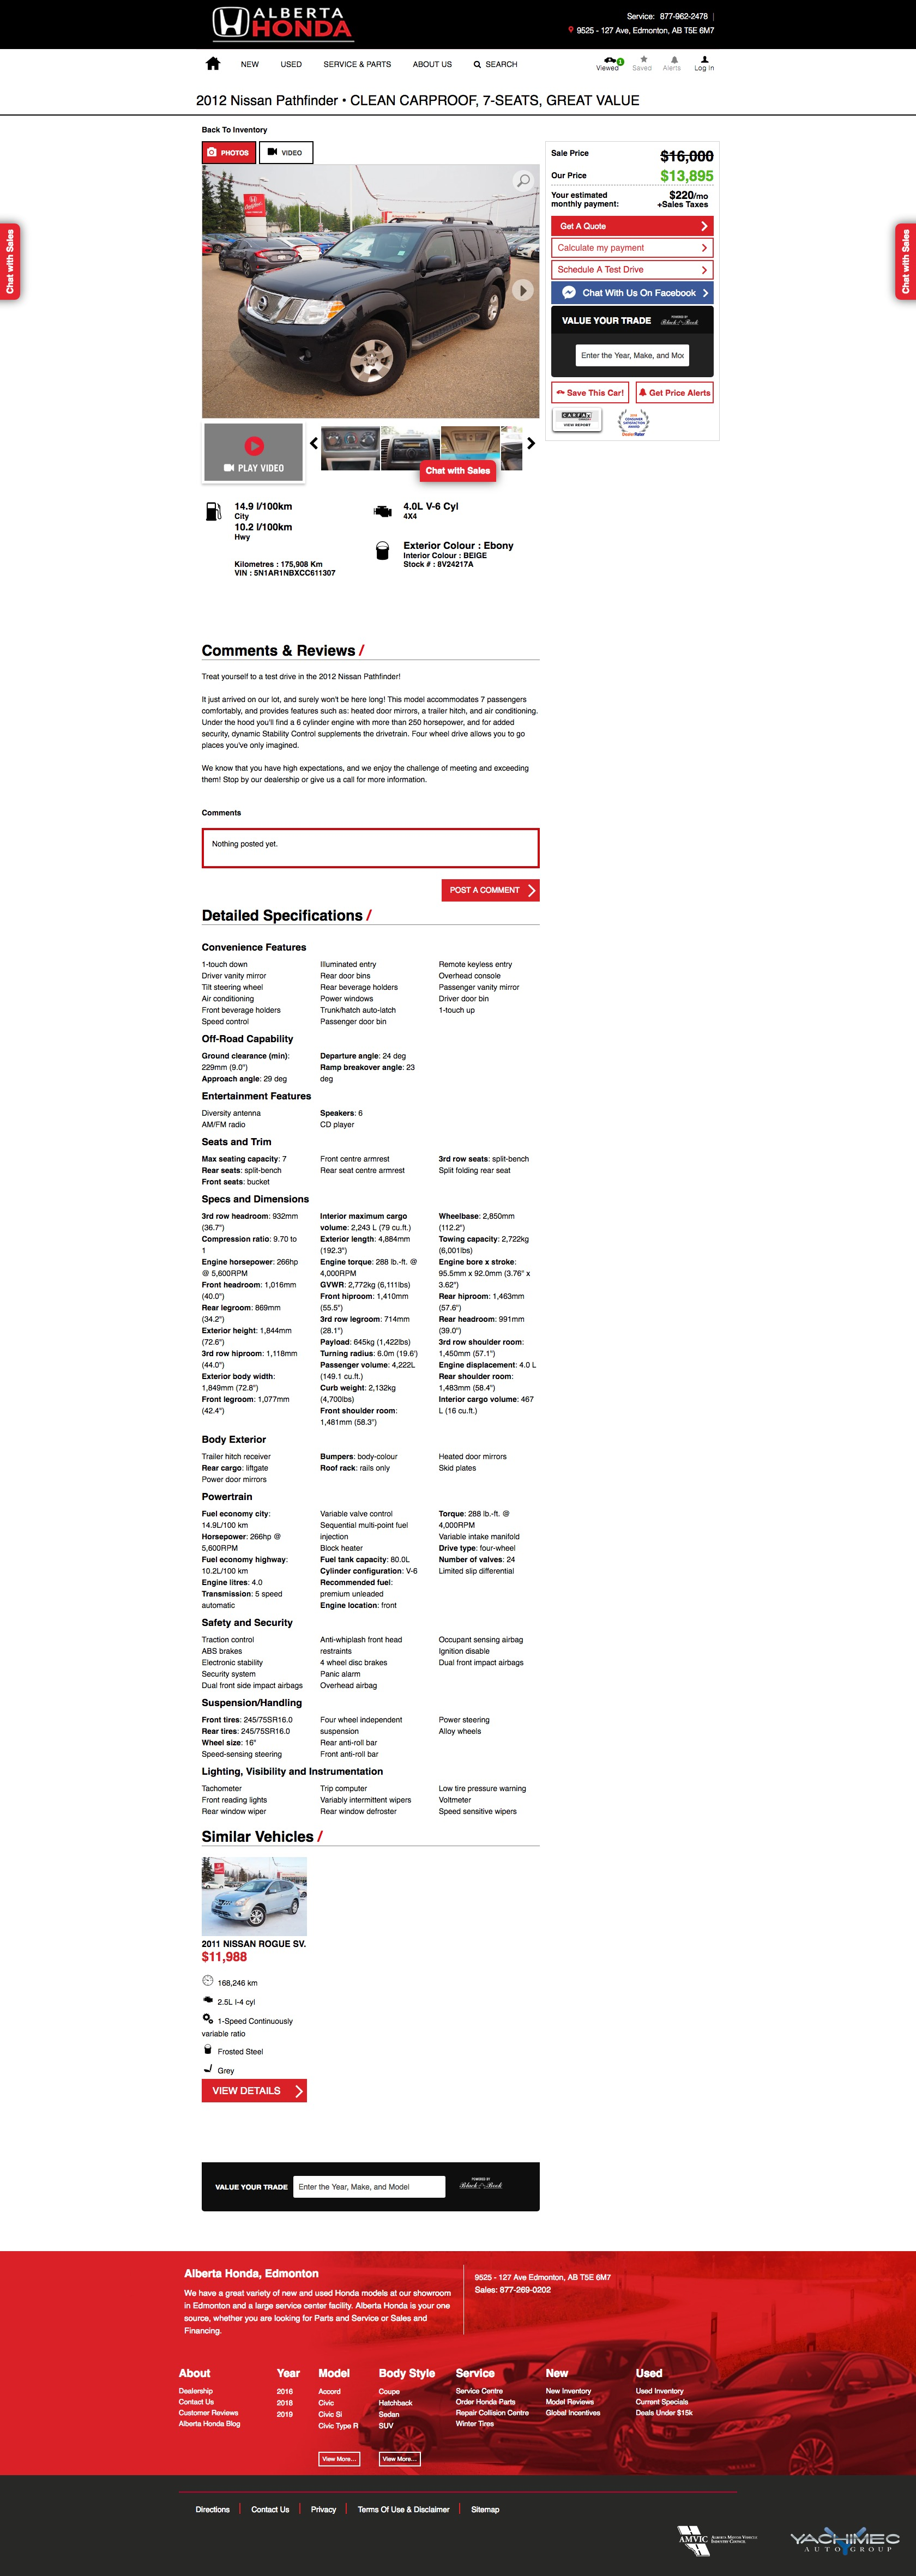arrow: (526, 435, 536, 450)
